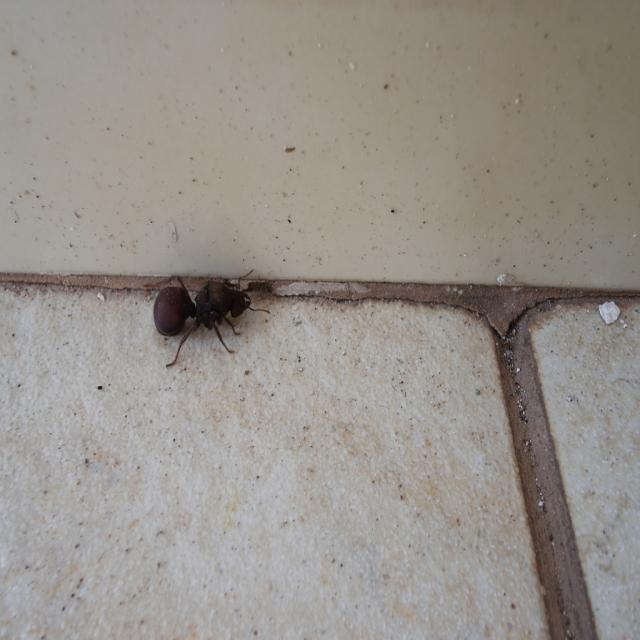Alive-Female-Dealate: (143, 268, 271, 368)
